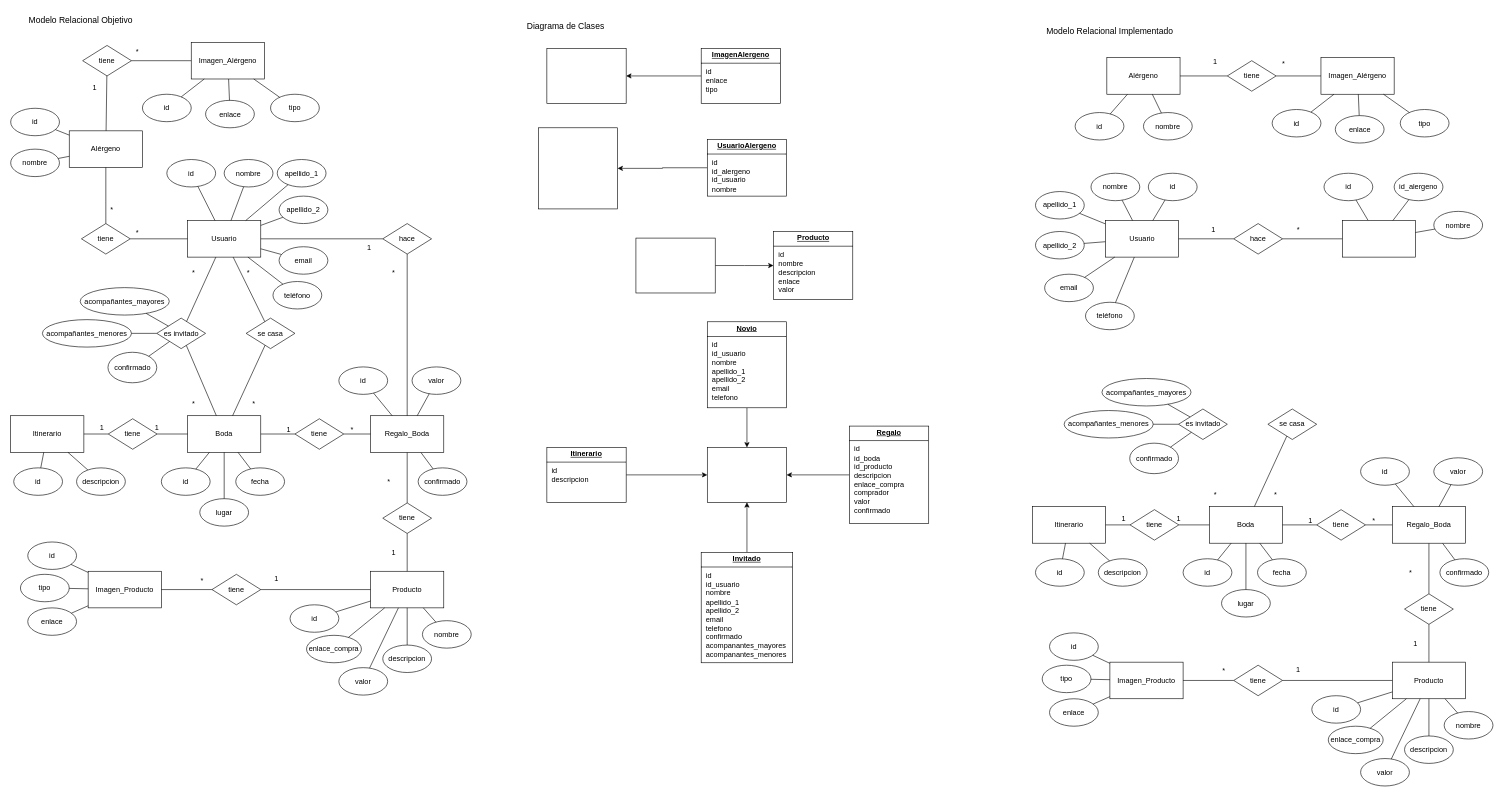
Image size: 1504x797. Some labels were removed from this diagram. Here are the shapes that lost their labels. From the top down, the centre of each, then its label:
(586,75): Alergeno id nombre
(578,168): Usuario id nombre apellido_1 apellido_2 email telefono
(1379,238): Alergia
(675,265): ImagenProducto id enlace tipo
(747,474): Boda id fecha lugar
